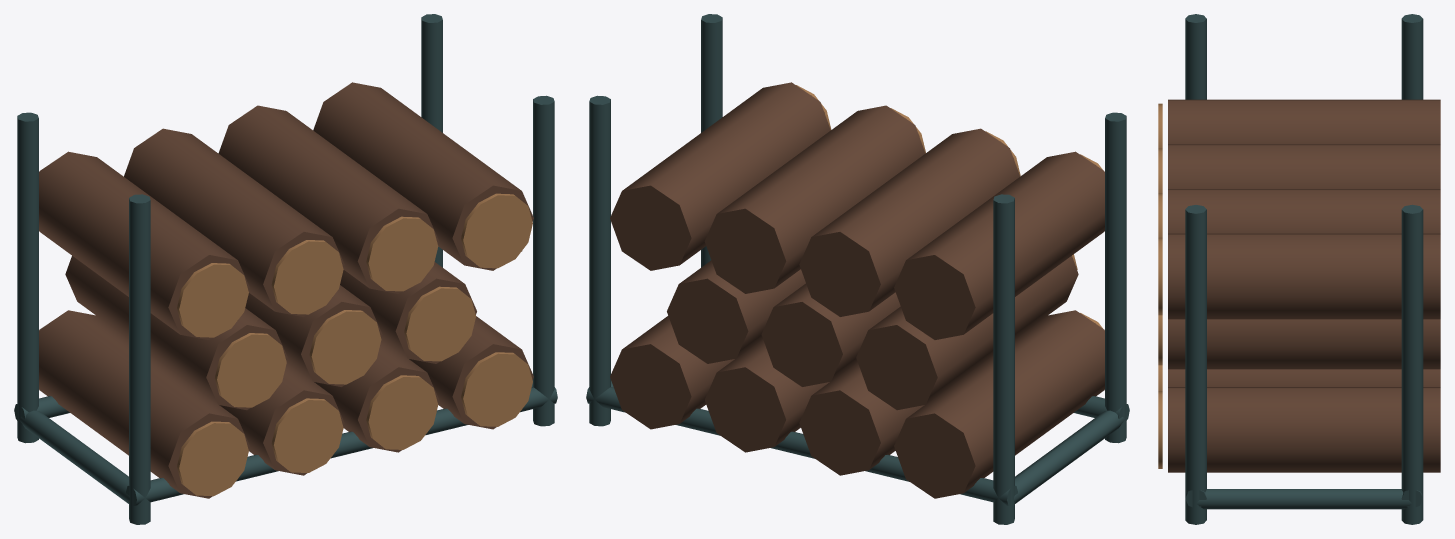
Rendered from almanac-gardens-firewood-rack-1d4f6ea0__22093.glb.
The picture shows the model from 3 angles, left to right: view 1: azimuth 30°, elevation 25°; view 2: azimuth 150°, elevation 25°; view 3: azimuth 270°, elevation 25°; orthographic projection. The views are drawn at different scales.
Parts seen in each view (by area): view 1: firewood-rack-bark, firewood-rack-oak, firewood-rack-iron; view 2: firewood-rack-bark, firewood-rack-iron; view 3: firewood-rack-bark, firewood-rack-iron, firewood-rack-oak.
Part boxes in pixels (box(x1,y1,x2,y2)): firewood-rack-bark: box(39, 82, 533, 498); firewood-rack-oak: box(177, 193, 532, 496); firewood-rack-iron: box(14, 14, 557, 524); firewood-rack-bark: box(610, 82, 1104, 498); firewood-rack-iron: box(586, 14, 1129, 524); firewood-rack-bark: box(1168, 99, 1440, 472); firewood-rack-iron: box(1185, 14, 1423, 524); firewood-rack-oak: box(1158, 103, 1162, 468).
Size of the model in its own units: 1.01 by 0.73 by 0.6.
